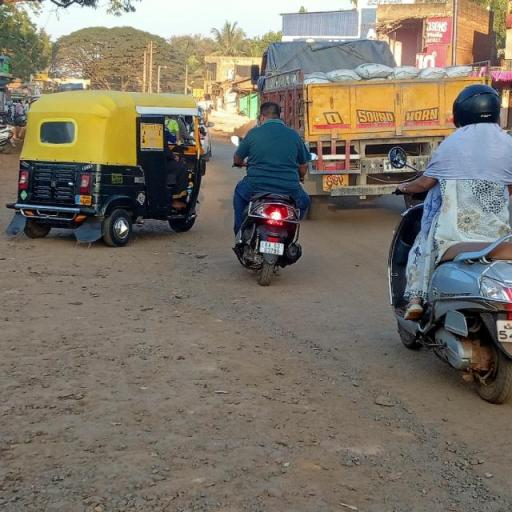bike: (218, 98, 324, 288)
numberplate: (258, 238, 288, 260)
withouthelmet: (261, 103, 284, 120)
